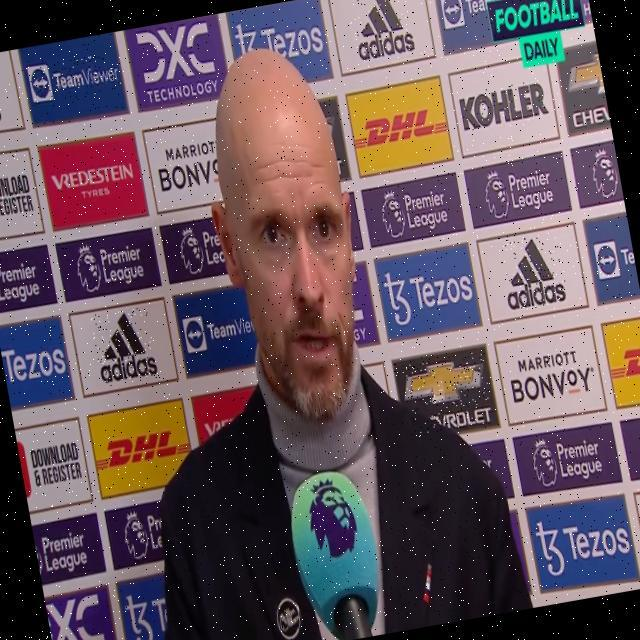Adidas: (496, 231, 569, 313), (89, 305, 159, 387), (346, 0, 416, 63)
Chevrolet: (401, 351, 495, 436)
Kohler: (457, 79, 549, 133)
TeamViewer: (28, 52, 122, 104), (439, 0, 535, 29)
